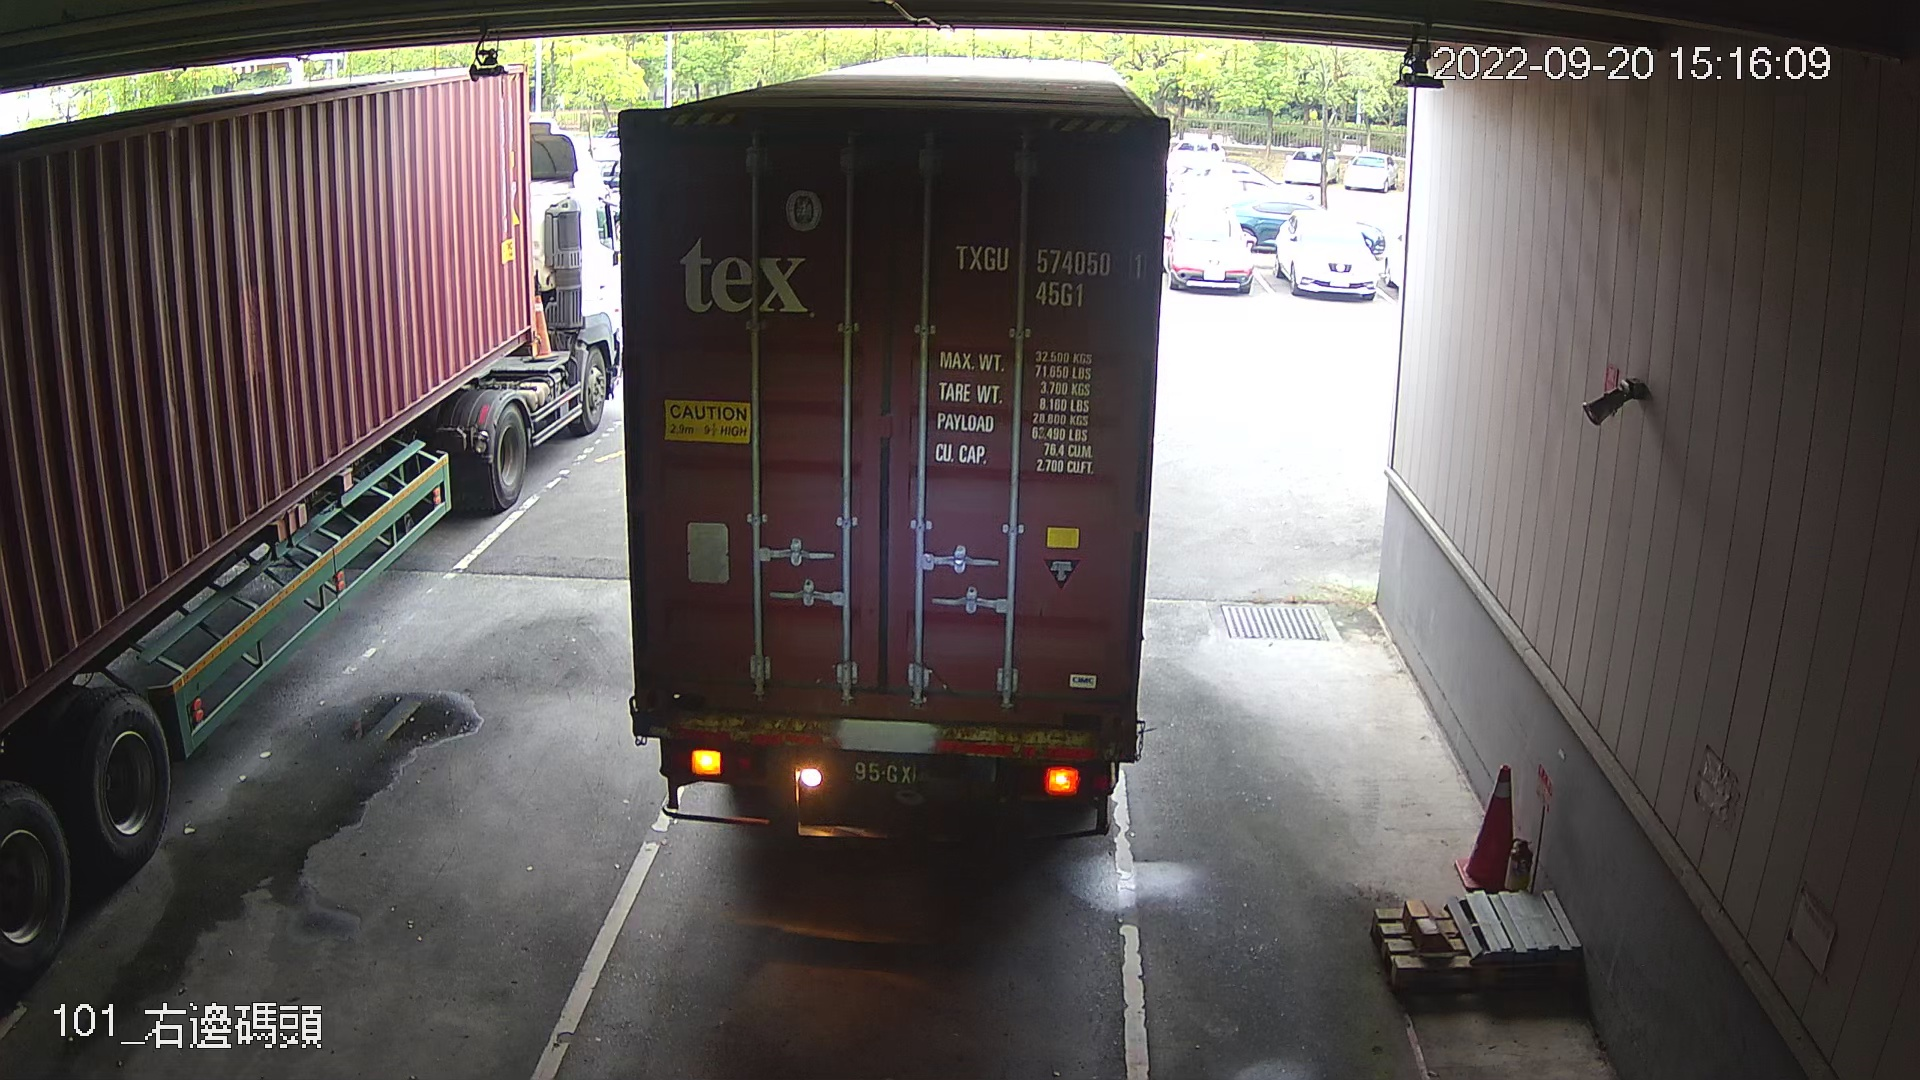container: (948, 236, 1151, 316)
